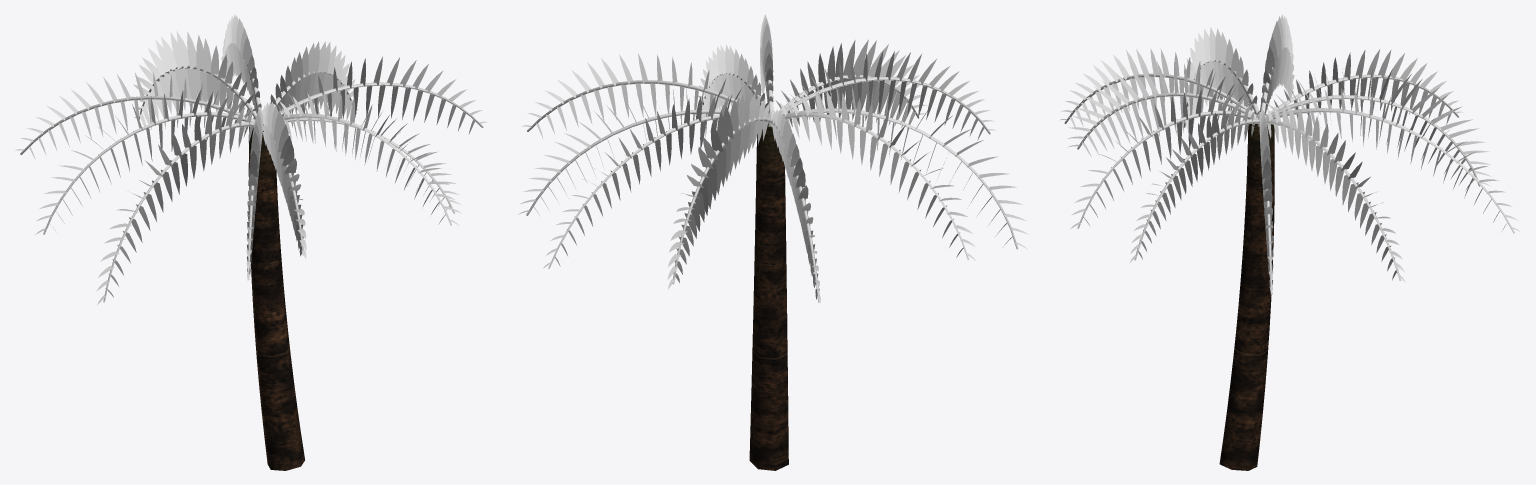
File: Baumfarn_2.fbx
The picture shows the model from 3 angles, left to right: view 1: azimuth 30°, elevation 25°; view 2: azimuth 150°, elevation 25°; view 3: azimuth 270°, elevation 25°; orthographic projection. The views are drawn at different scales.
Parts seen in each view (by area): view 1: Baumfarn_2; view 2: Baumfarn_2; view 3: Baumfarn_2.
Part boxes in pixels (x1=…): Baumfarn_2: x1=15, y1=14, x2=487, y2=470; Baumfarn_2: x1=518, y1=14, x2=1028, y2=470; Baumfarn_2: x1=1059, y1=14, x2=1520, y2=470.
Bounding box in the file's own units: 4.21 × 3.53 × 3.78.
